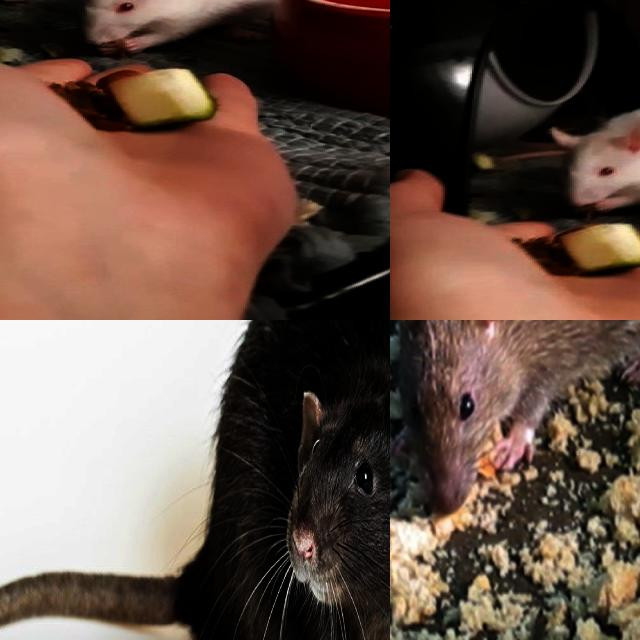rat: (45, 320, 390, 640), (390, 320, 640, 508), (63, 0, 286, 53), (548, 101, 640, 219)
